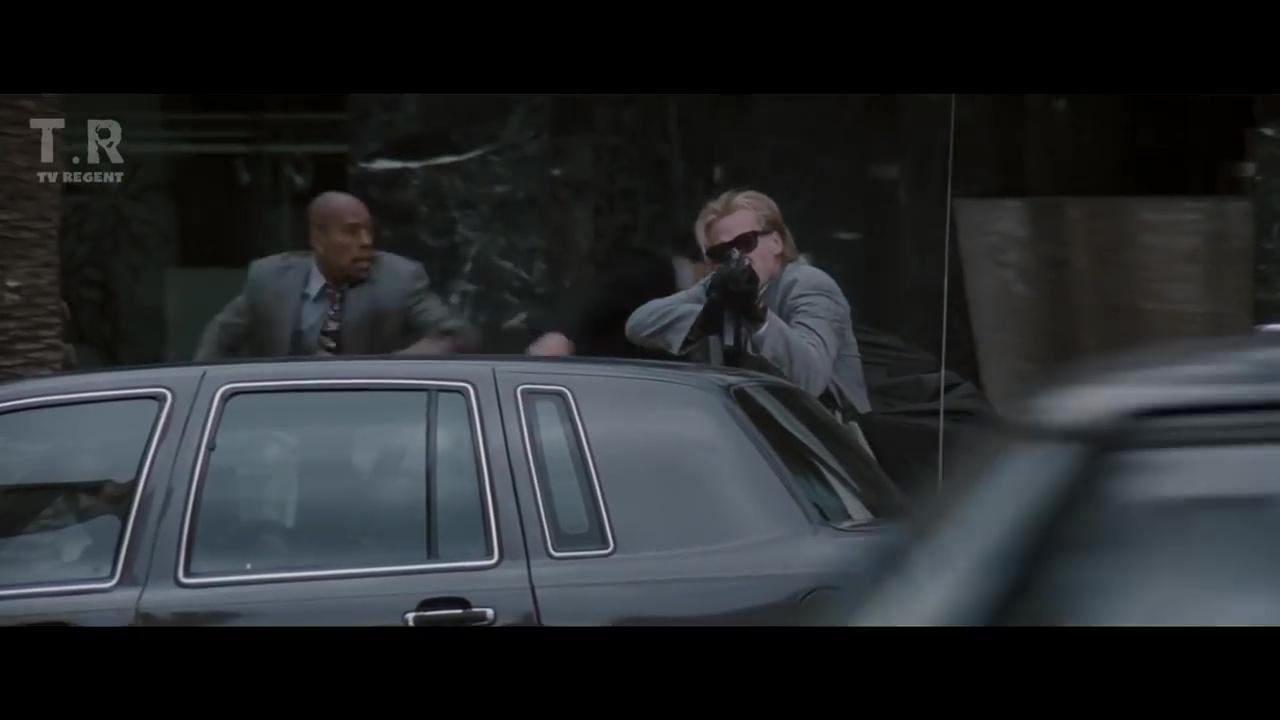Gun: (710, 256, 756, 356)
